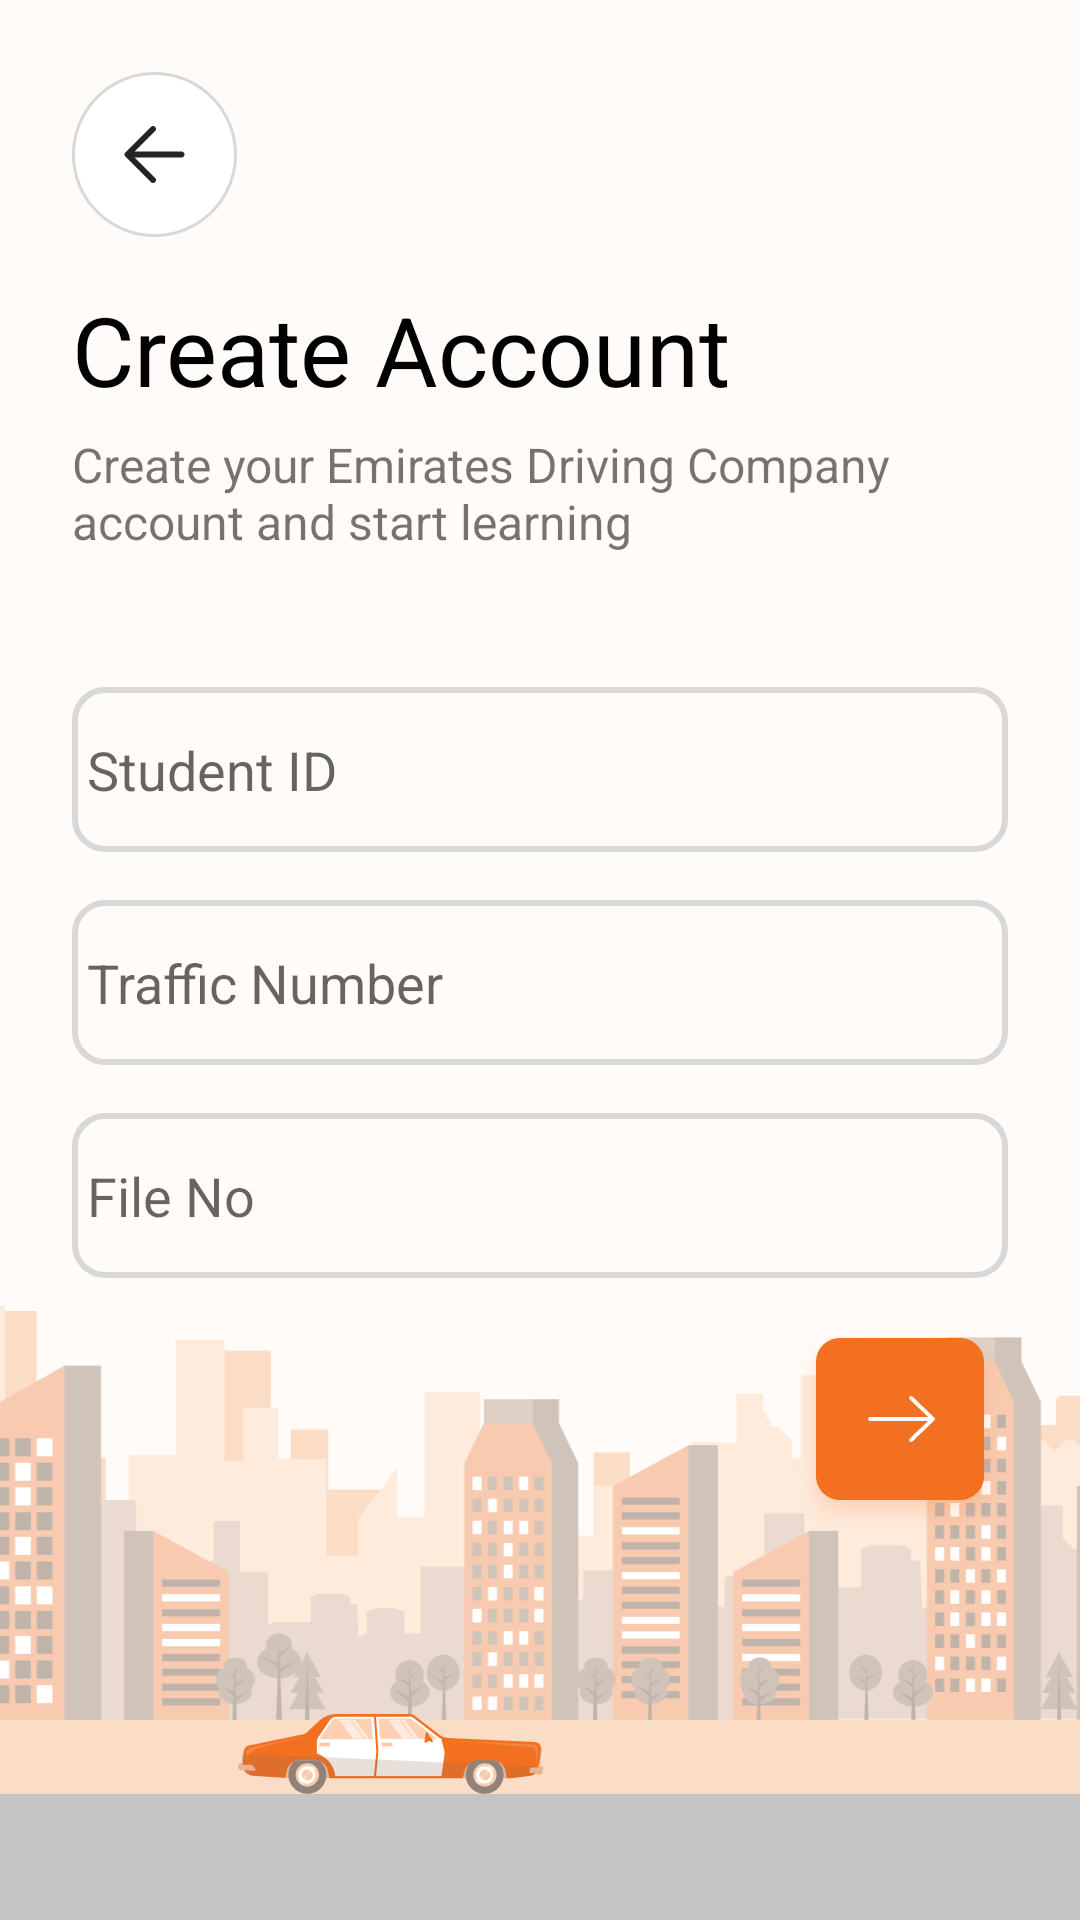

Point at icon controls on the screen. Image size 1080×1920, points as point (x, y).
back: point (154, 154)
car: point (391, 1754)
next: point (900, 1431)
